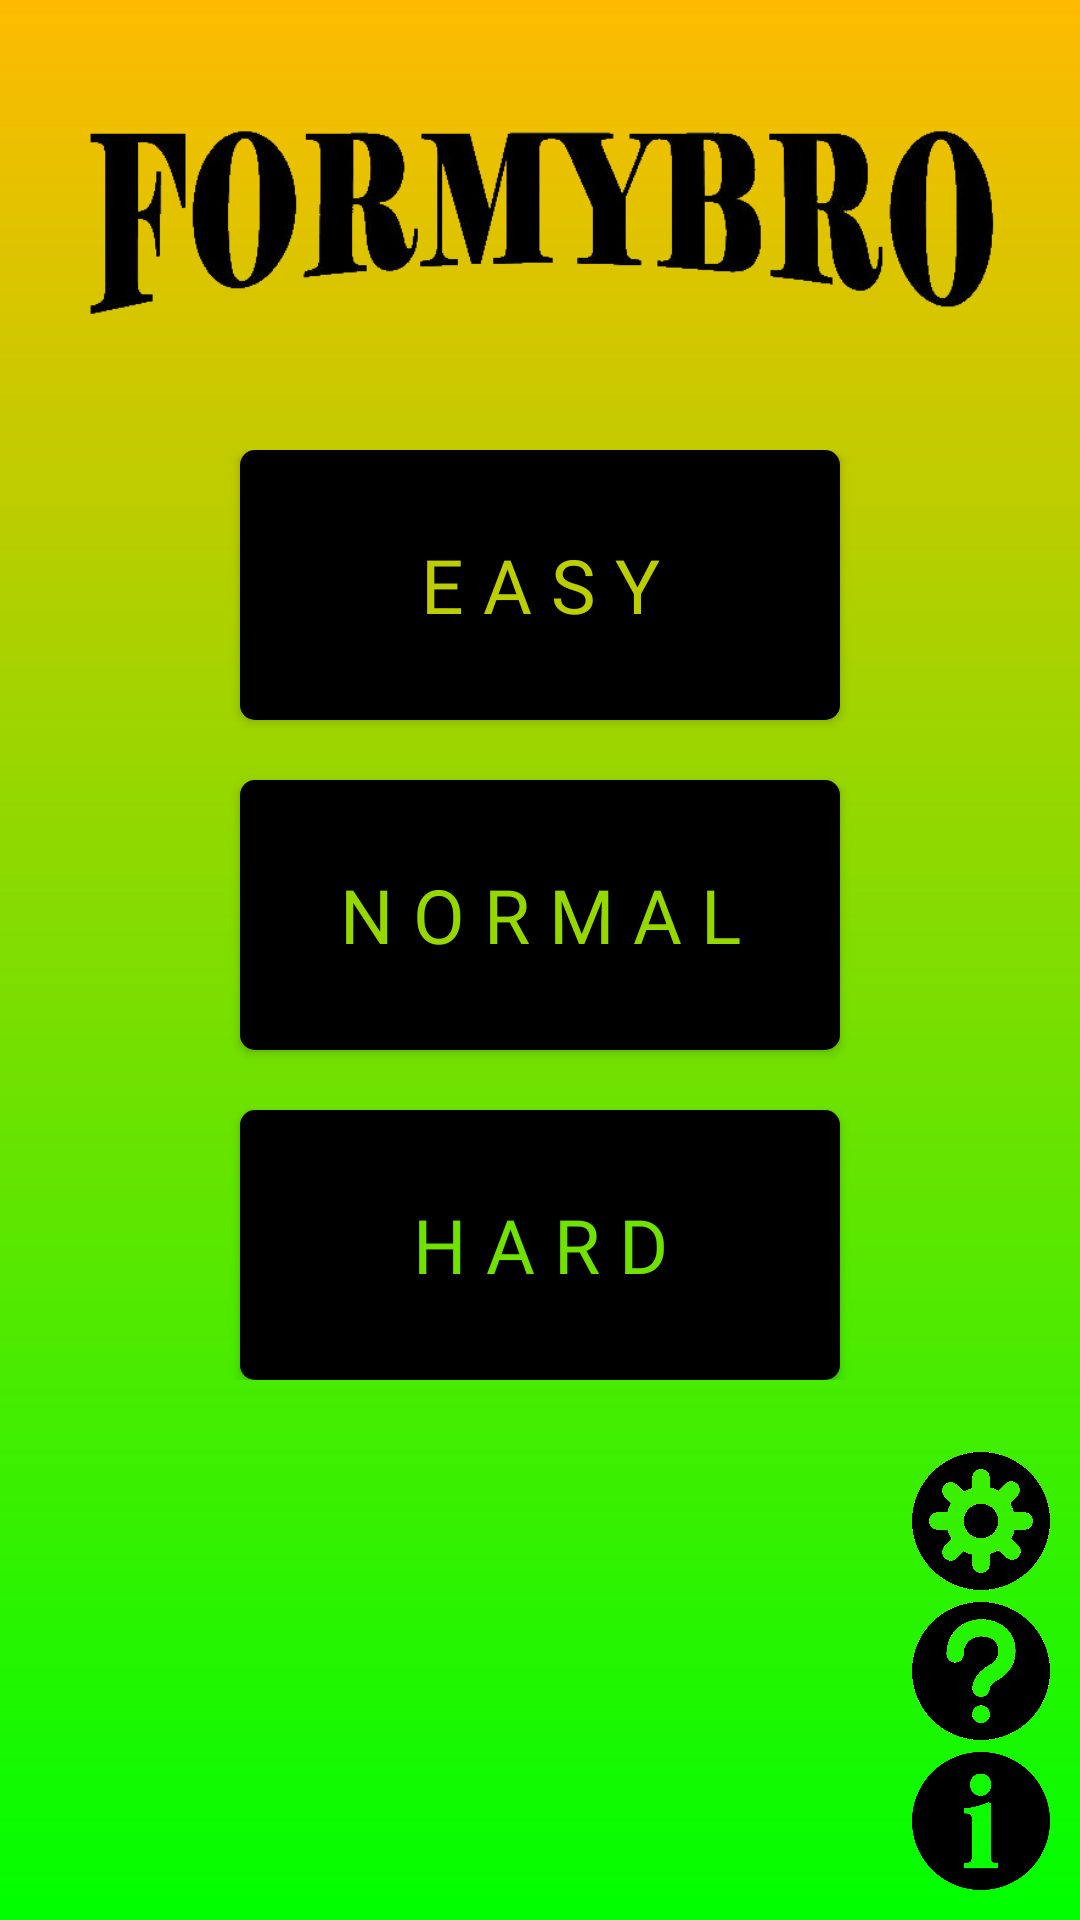

Screen size 1080w x 1920h. Icon name, then its box in pixels as (x1=x1, y1=y1, x2=x2, y2=y2):
information: (x1=912, y1=1752, x2=1050, y2=1890)
rules: (x1=912, y1=1602, x2=1050, y2=1740)
setting: (x1=912, y1=1452, x2=1050, y2=1590)
